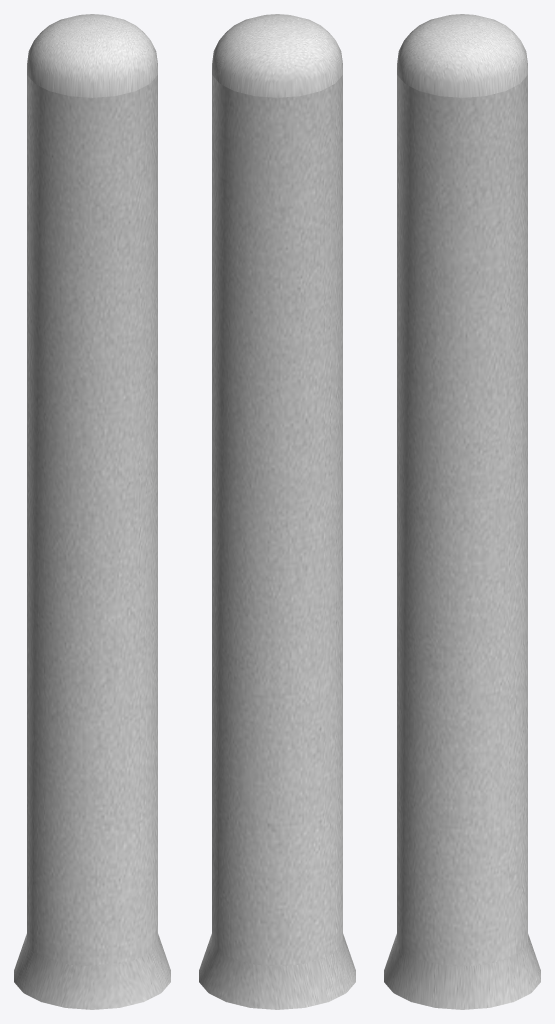
Rendered from body.glb.
The picture shows the model from 3 angles, left to right: view 1: azimuth 30°, elevation 25°; view 2: azimuth 150°, elevation 25°; view 3: azimuth 270°, elevation 25°; orthographic projection.
Parts seen in each view (by area): view 1: body; view 2: body; view 3: body.
Boxes of the visible parts, x1,y1,x2,y2 form: body: (14, 14, 170, 1009); body: (199, 14, 355, 1009); body: (384, 14, 540, 1009).
Bounding box in the file's own units: 13.49 × 88.9 × 13.29.
Materials: 1 (1 with a texture image).
